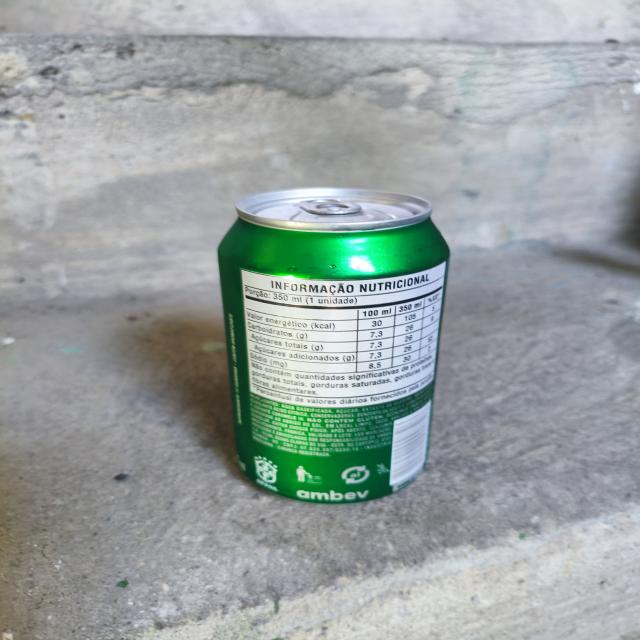Guarana: (190, 170, 478, 518)
